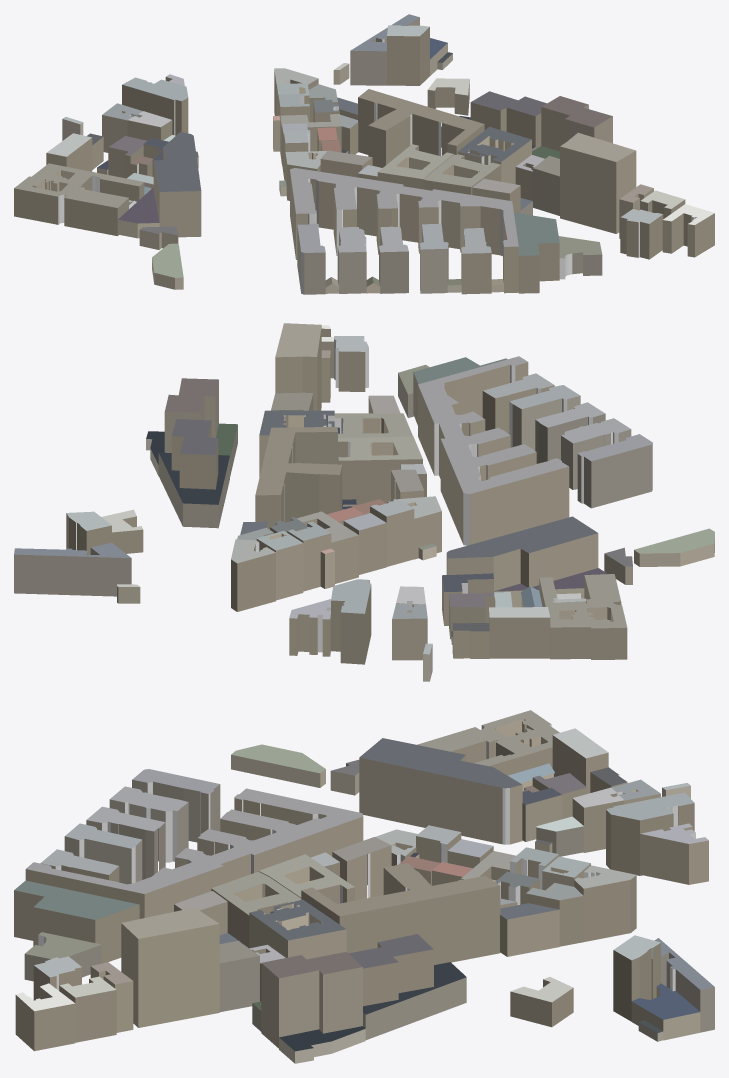
The picture shows the model from 3 angles, top to bottom: view 1: azimuth 30°, elevation 25°; view 2: azimuth 150°, elevation 25°; view 3: azimuth 270°, elevation 25°; orthographic projection. The views are drawn at different scales.
Parts seen in each view (by area): view 1: tuile; view 2: tuile; view 3: tuile.
Part boxes in pixels (<box>): tuile: <box>14,14,714,294</box>; tuile: <box>14,323,714,681</box>; tuile: <box>14,710,714,1063</box>.
Bounding box in the file's own units: 287 × 38.56 × 271.
